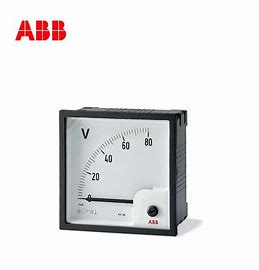pointer: (64, 114, 172, 229)
